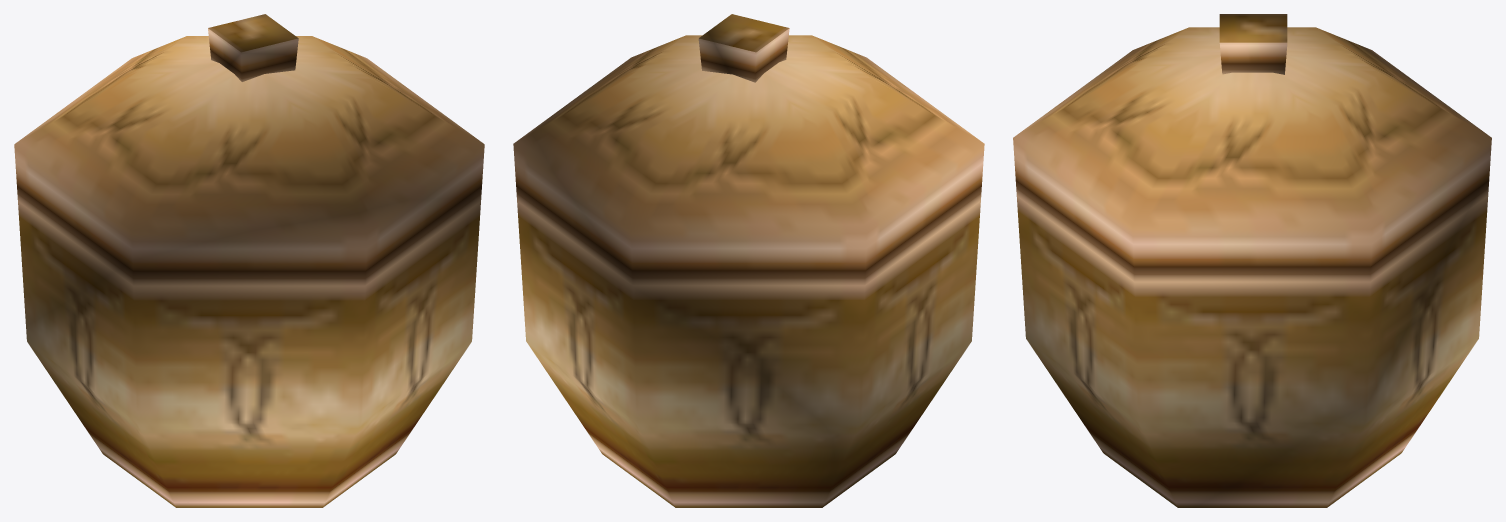
Rendered from jar03.obj.
The picture shows the model from 3 angles, left to right: view 1: azimuth 30°, elevation 25°; view 2: azimuth 150°, elevation 25°; view 3: azimuth 270°, elevation 25°; orthographic projection.
Visible parts, largest first — view 1: jar030; view 2: jar030; view 3: jar030.
Boxes of the visible parts, box(x1,y1,x2,y2) form: jar030: box(14, 14, 484, 507); jar030: box(513, 14, 984, 507); jar030: box(1013, 14, 1491, 507).
Bounding box in the file's own units: 0.465 × 0.5285 × 0.5369.
Materials: 1 (1 with a texture image).
